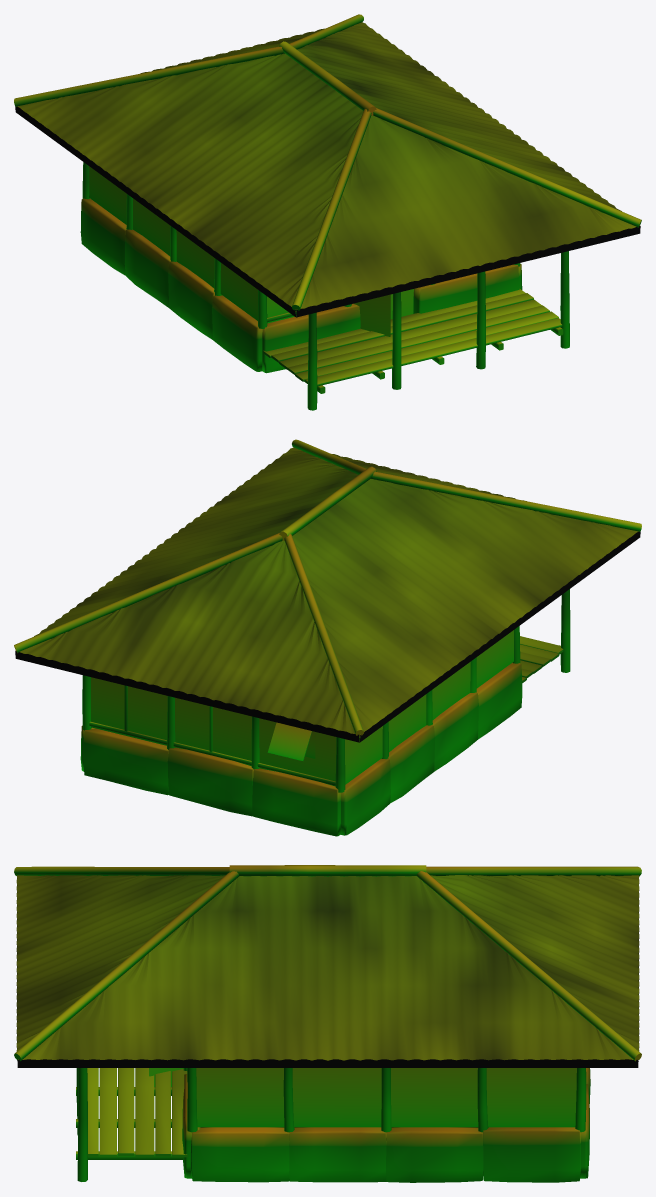
The model's file is house_tile_a.glb.
3 renders of one model, top to bottom at view 1: azimuth 30°, elevation 25°; view 2: azimuth 150°, elevation 25°; view 3: azimuth 270°, elevation 25°, orthographic. The views are drawn at different scales.
Parts seen in each view (by area): view 1: house_tile_a; view 2: house_tile_a; view 3: house_tile_a.
Boxes of the visible parts, <box> form: house_tile_a: <box>14,14,641,410</box>; house_tile_a: <box>14,439,641,836</box>; house_tile_a: <box>14,865,641,1182</box>.
Size of what is drawn, in the model's own units: 6.91 by 4.22 by 9.71.
